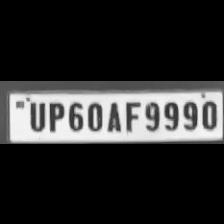0: (84, 97, 104, 130), (198, 98, 218, 130)
6: (64, 99, 84, 131)
9: (160, 97, 180, 130), (179, 98, 199, 130), (142, 97, 160, 130)
A: (104, 98, 122, 132)
F: (122, 98, 140, 132)
P: (46, 98, 64, 132)
U: (24, 99, 46, 131)
